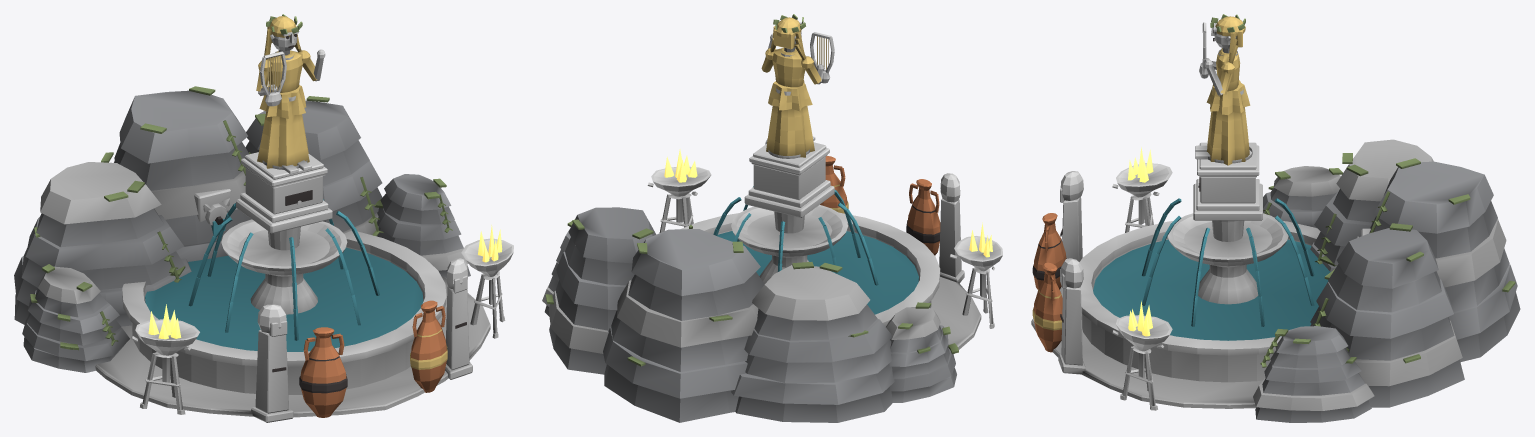
Rendered from apollo-fountain-l2.glb.
The picture shows the model from 3 angles, left to right: view 1: azimuth 30°, elevation 25°; view 2: azimuth 150°, elevation 25°; view 3: azimuth 270°, elevation 25°; orthographic projection. The views are drawn at different scales.
Visible parts, largest first — view 1: apollo-fountain-l2; view 2: apollo-fountain-l2; view 3: apollo-fountain-l2.
Part boxes in pixels (left/top/right/bottom): apollo-fountain-l2: left=14, top=14, right=513, bottom=422; apollo-fountain-l2: left=542, top=14, right=1002, bottom=422; apollo-fountain-l2: left=1031, top=14, right=1520, bottom=422.
Bounding box in the file's own units: 1.7 × 1.22 × 1.75.
